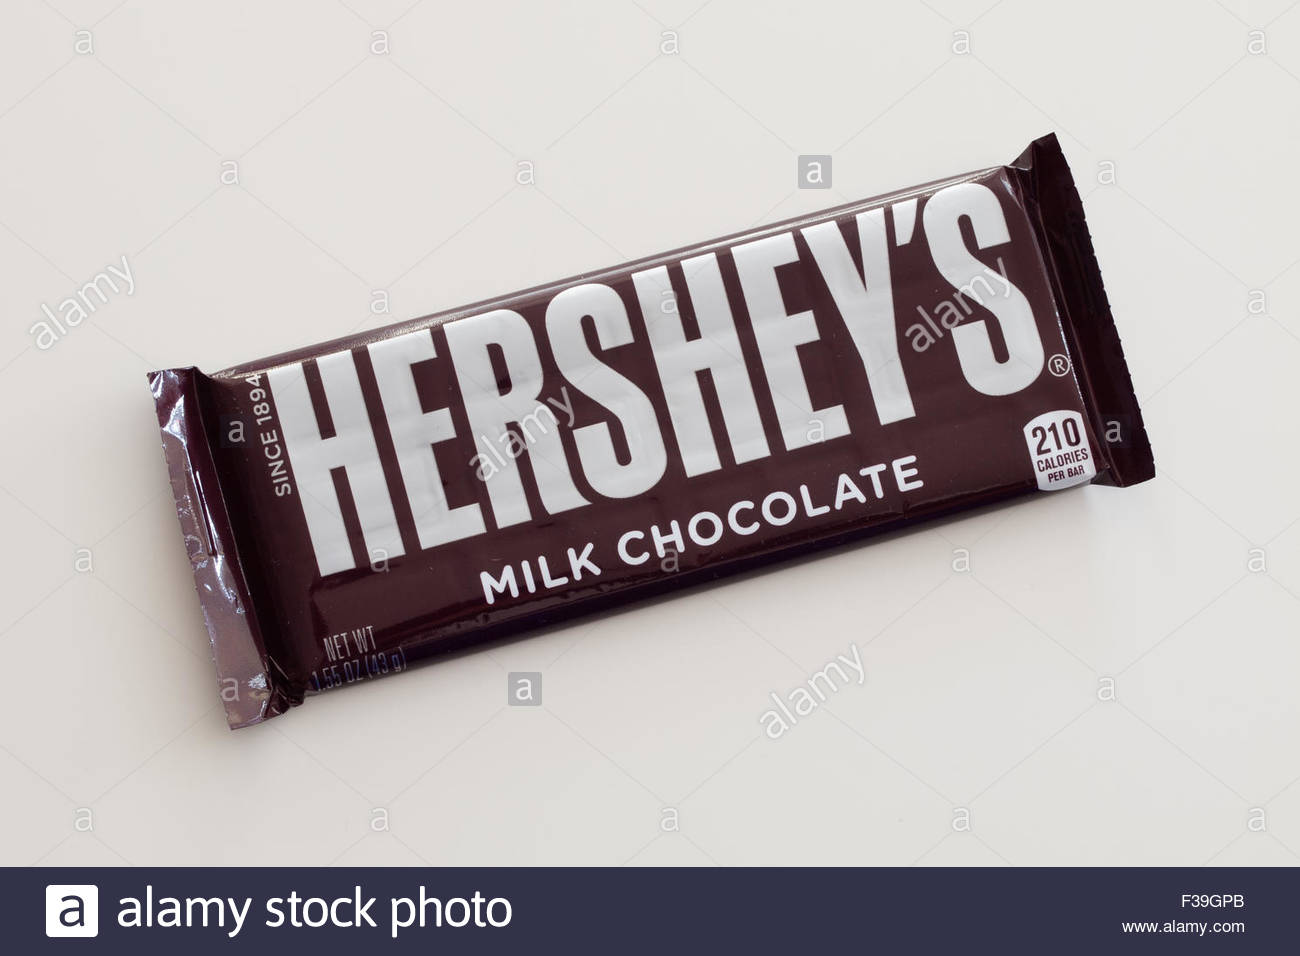hershey: (148, 130, 1155, 733)
